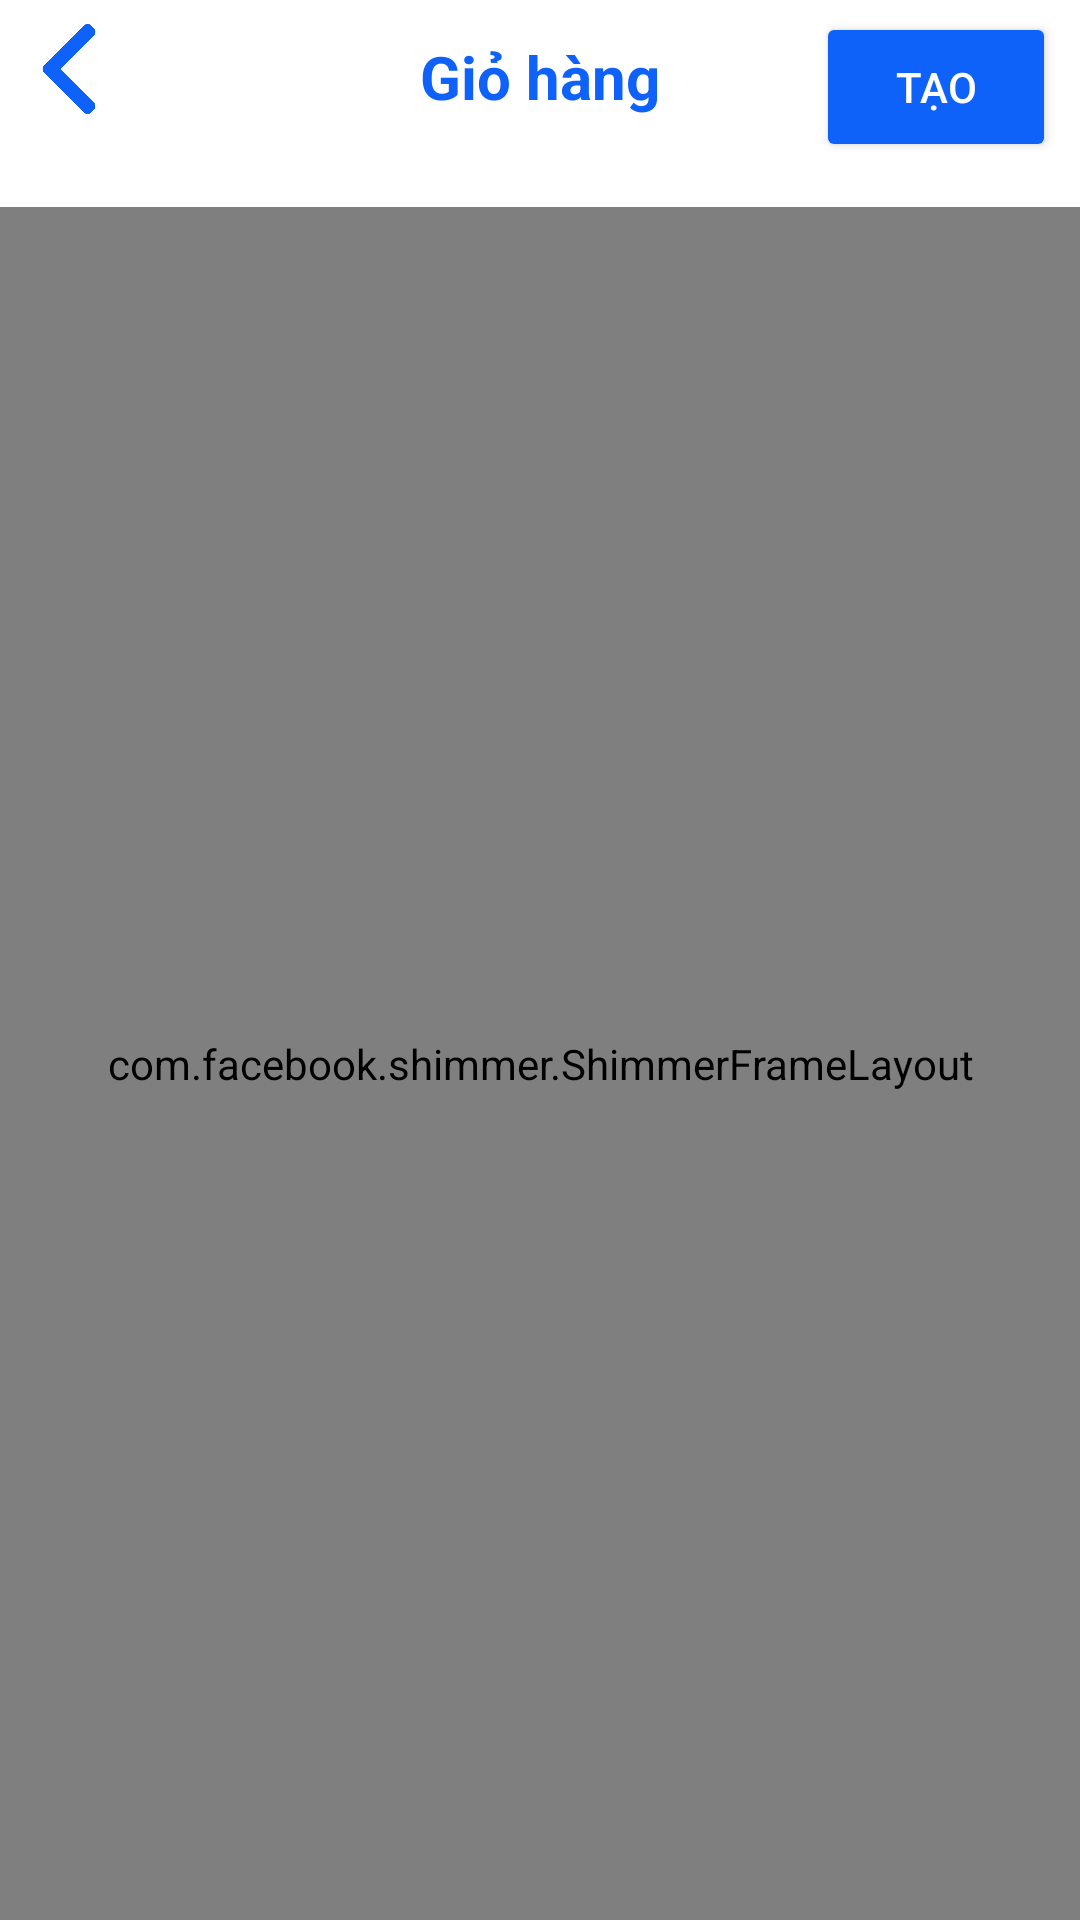

Named icons in this screenshot (1080px×1920px) and their centers, (x,y):
left arrow: (69,69)
